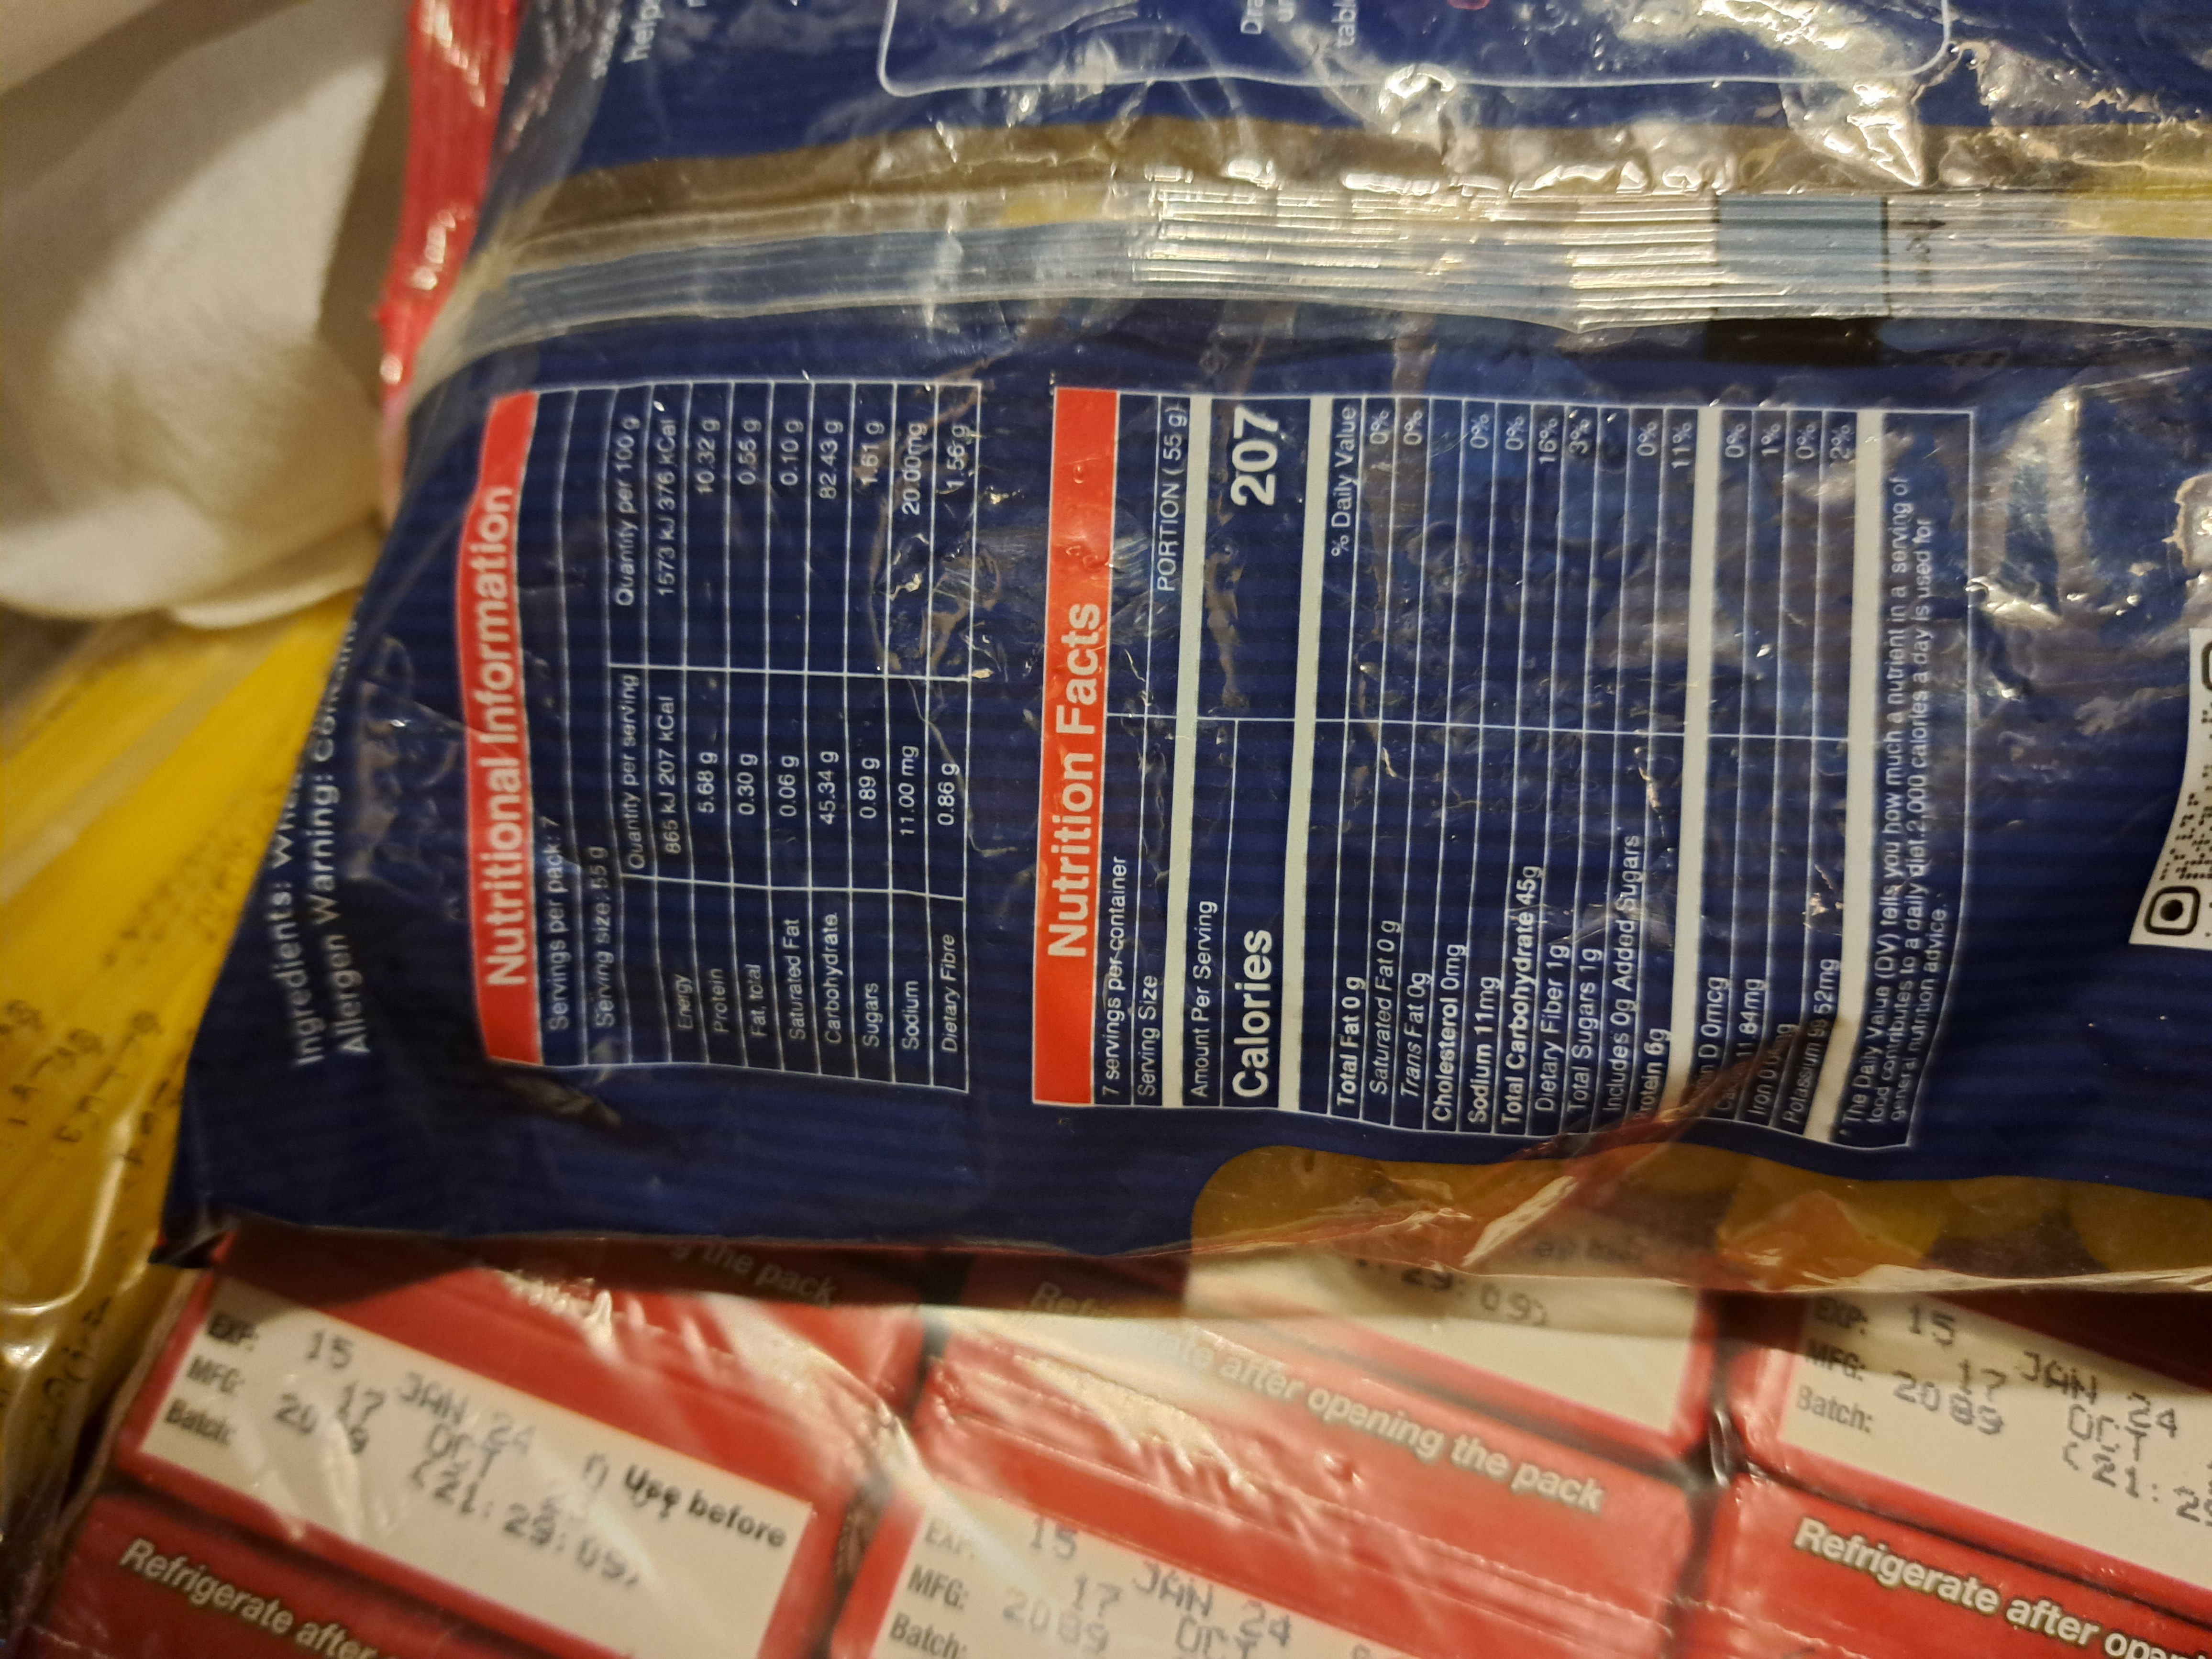table: (451, 376, 1956, 1173)
